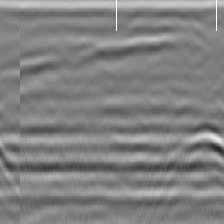Utility: (178, 123, 224, 165)
